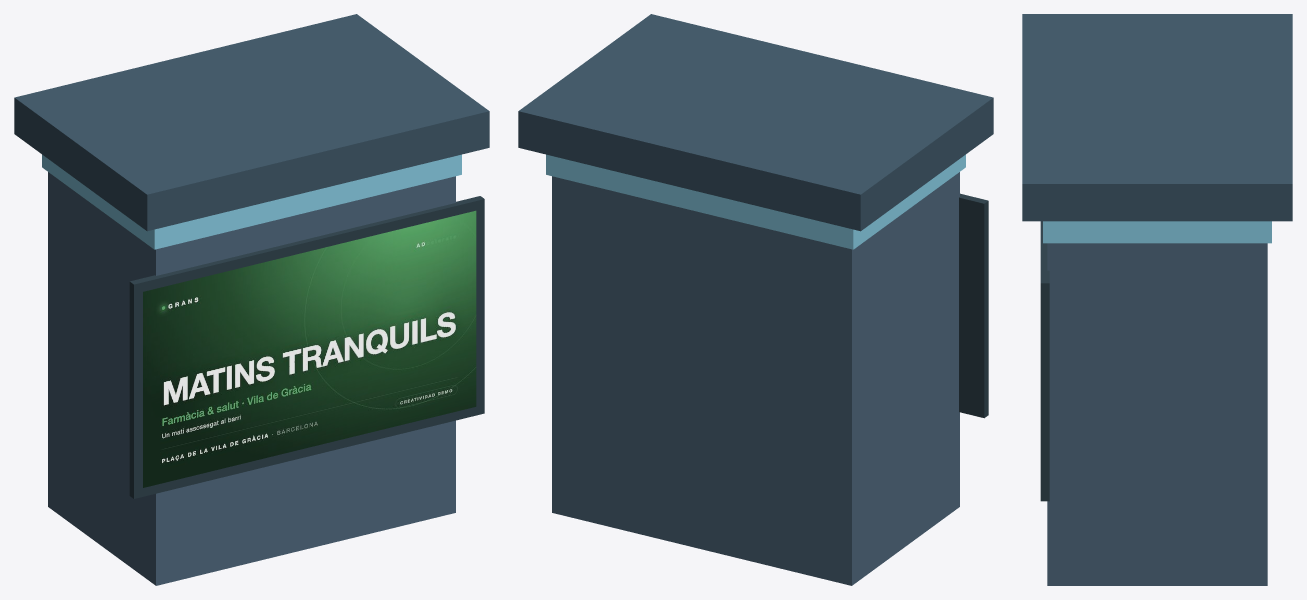
The model's file is kiosk-seniors.glb.
3 views of the same model, side by side, from view 1: azimuth 30°, elevation 25°; view 2: azimuth 150°, elevation 25°; view 3: azimuth 270°, elevation 25° (orthographic).
Visible parts, largest first — view 1: kiosk; view 2: kiosk; view 3: kiosk.
Boxes of the visible parts, left/top/right/bottom form: kiosk: left=14, top=14, right=489, bottom=585; kiosk: left=518, top=14, right=993, bottom=585; kiosk: left=1022, top=14, right=1292, bottom=585.
Size of the model in its own units: 2.81 by 3.1 by 1.84.
Materials: 5 (1 with a texture image).
